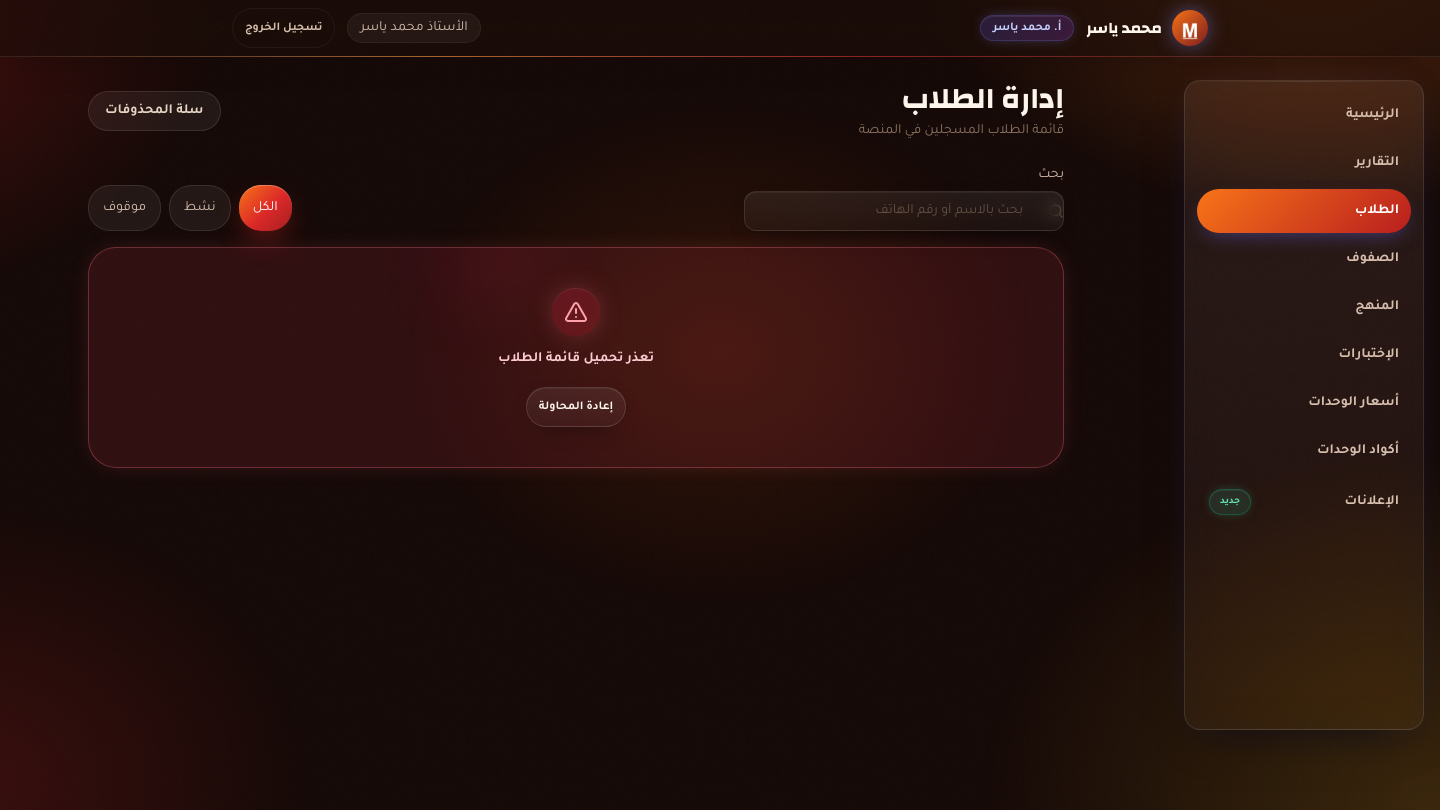
Test: StudentListPage (staff lifecycle) › shows an error state with a retry that recovers
Expected: the text "تعذر تحميل قائمة الطلاب" is shown, top-left (498, 348), bottom-right (654, 371)
Click the button "إعادة المحاولة" at coordinates (576, 407), box top-left (526, 387), bottom-right (626, 427)
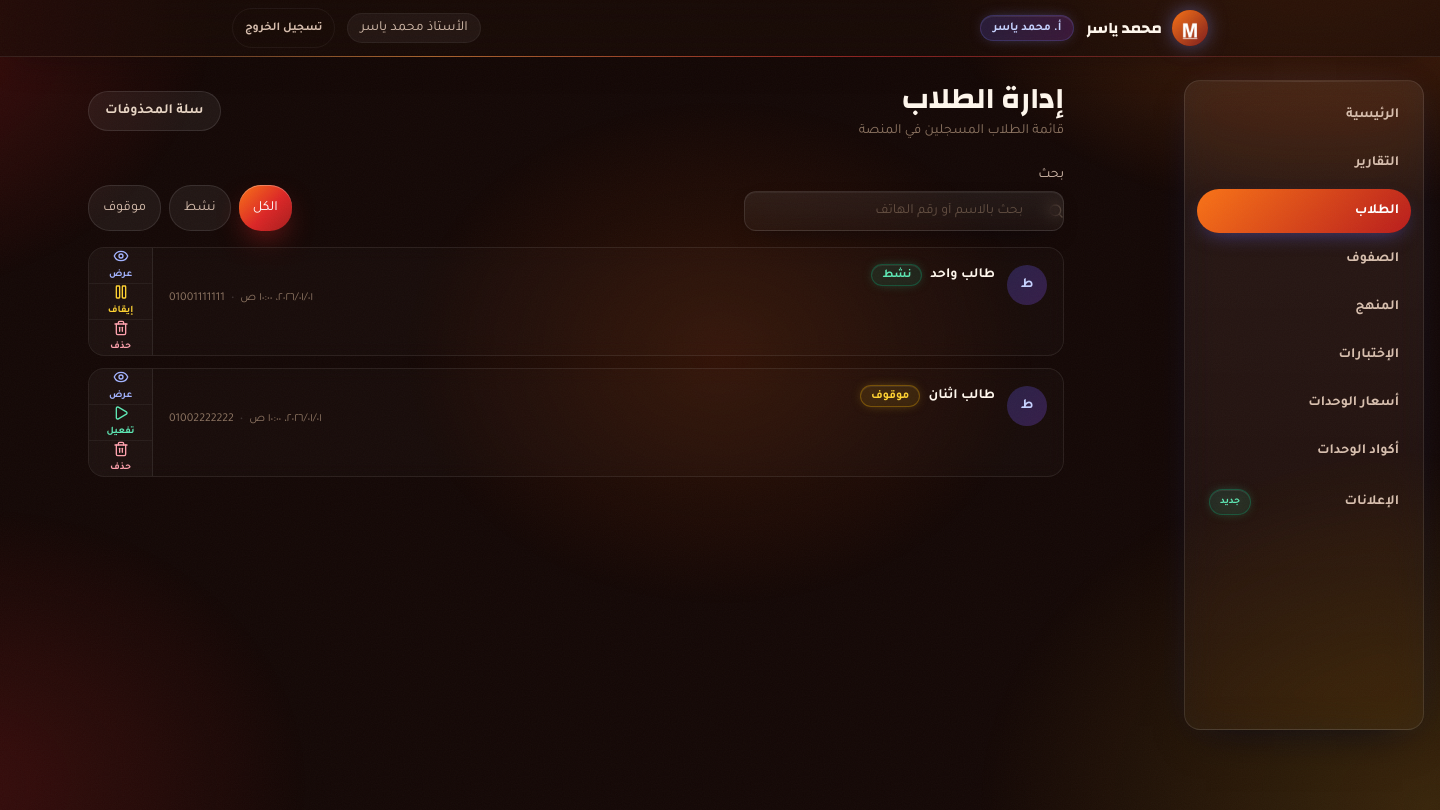
Now the text "طالب واحد" is shown, box top-left (930, 265), bottom-right (995, 285)
